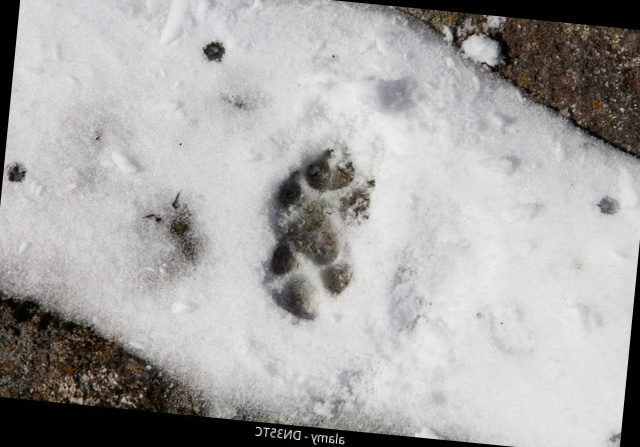fox: (231, 138, 402, 362)
